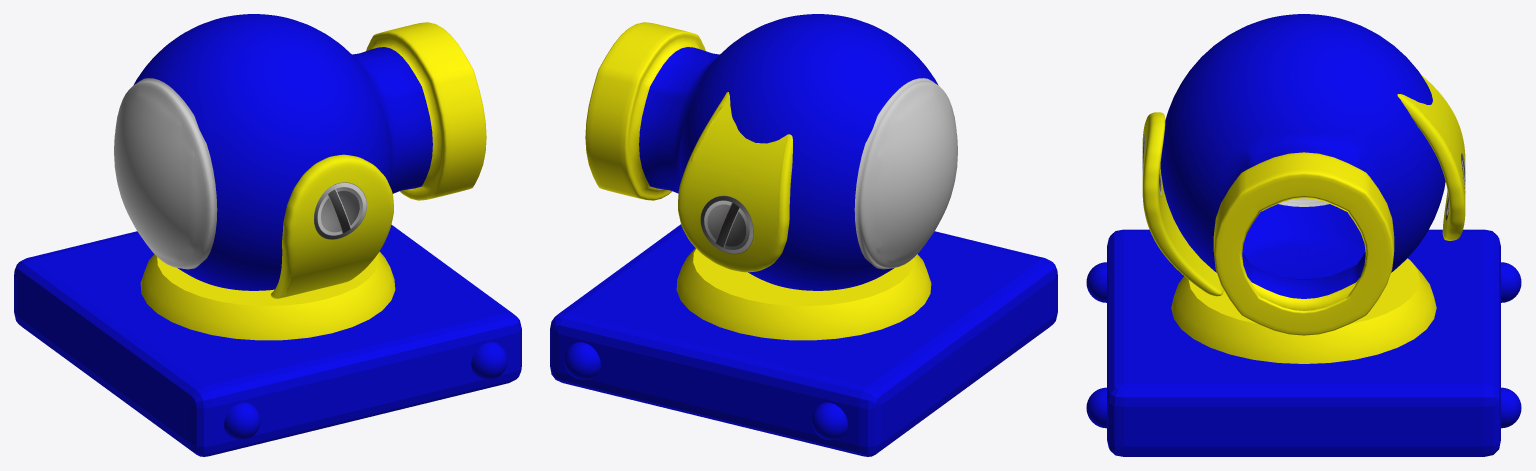
Rendered from Cannon.FBX.
3 views of the same model, side by side, from view 1: azimuth 30°, elevation 25°; view 2: azimuth 150°, elevation 25°; view 3: azimuth 270°, elevation 25° (orthographic). The views are drawn at different scales.
Parts seen in each view (by area): view 1: cannonBody, mainPedestal, secondaryPedestal, bracketLeft; view 2: cannonBody, mainPedestal, bracketRight, secondaryPedestal; view 3: cannonBody, mainPedestal, secondaryPedestal, bracketLeft, bracketRight.
Boxes of the visible parts, x1,y1,x2,y2 form: cannonBody: (114,14,486,290); mainPedestal: (14,224,521,456); secondaryPedestal: (140,251,395,340); bracketLeft: (271,154,393,298); cannonBody: (585,14,957,290); mainPedestal: (550,224,1057,456); bracketRight: (678,92,792,272); secondaryPedestal: (676,248,931,340); cannonBody: (1160,14,1445,335); mainPedestal: (1086,229,1521,456); secondaryPedestal: (1171,258,1436,363); bracketLeft: (1142,112,1223,296); bracketRight: (1397,75,1465,240).
Bounding box in the file's own units: 534 × 497 × 568.
